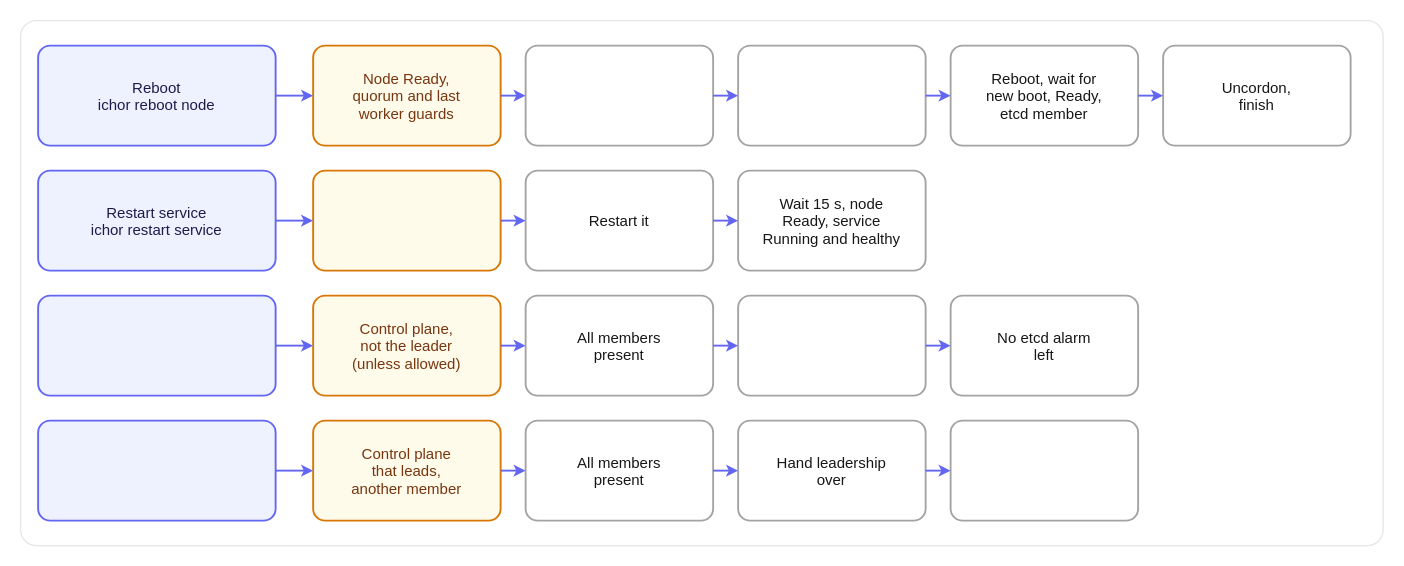
Some shapes in this 1404 by 566 pixel diagram are drawn without their labels. Here are the shapes that lost their labels. From the top down, the centre of each, then its label:
At (619,95): "Move storage replicas off".
At (831,95): "Cordon and drain (10 min)".
At (406,220): "Service is kubelet, containerd or cri".
At (156,345): "Defragment etcd ichor defrag etcd".
At (831,345): "Defragment (10 min)".
At (156,470): "Forfeit leadership ichor forfeit-leadership etcd".
At (1043,470): "Wait for a different leader".
